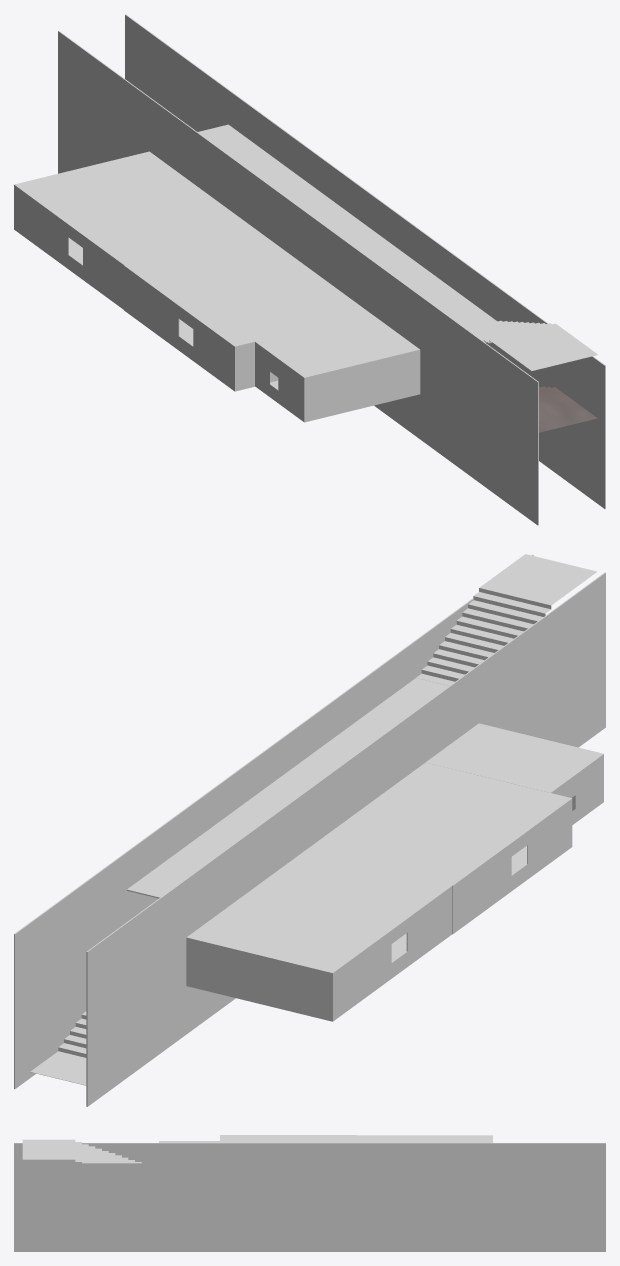
Rendered from 3D escape Map 1 test 1.fbx.
3 renders of one model, top to bottom at view 1: azimuth 30°, elevation 25°; view 2: azimuth 150°, elevation 25°; view 3: azimuth 270°, elevation 25°, orthographic. The views are drawn at different scales.
Parts seen in each view (by area): view 1: Side wall L, Side wall R, Cube, Cube.001, Room 1 walls.003, ceiling.003, Stairs top.003, Stairs up.003; view 2: Side wall L, Cube.001, Side wall R, Cube, ceiling.003, Stairs top.003, Room 1 walls.003, Stairs Down.003; view 3: Side wall R, Side wall L, Stairs top.003, Cube, Cube.001.
Boxes of the visible parts, x1=… form: Side wall L: x1=58, y1=31, x2=538, y2=525; Side wall R: x1=125, y1=14, x2=605, y2=508; Cube: x1=124, y1=232, x2=369, y2=391; Cube.001: x1=14, y1=151, x2=259, y2=309; Room 1 walls.003: x1=255, y1=313, x2=420, y2=422; ceiling.003: x1=198, y1=124, x2=495, y2=327; Stairs top.003: x1=465, y1=320, x2=597, y2=370; Stairs up.003: x1=539, y1=386, x2=597, y2=432; Side wall L: x1=86, y1=572, x2=605, y2=1106; Cube.001: x1=186, y1=850, x2=452, y2=1021; Side wall R: x1=14, y1=554, x2=533, y2=1088; Cube: x1=306, y1=762, x2=572, y2=934; ceiling.003: x1=127, y1=678, x2=448, y2=898; Stairs top.003: x1=416, y1=554, x2=596, y2=685; Room 1 walls.003: x1=425, y1=723, x2=603, y2=824; Stairs Down.003: x1=30, y1=1011, x2=86, y2=1085; Side wall R: x1=14, y1=1163, x2=605, y2=1251; Side wall L: x1=14, y1=1143, x2=605, y2=1163; Stairs top.003: x1=22, y1=1139, x2=141, y2=1163; Cube: x1=220, y1=1135, x2=356, y2=1142; Cube.001: x1=356, y1=1135, x2=492, y2=1142.
Bounding box in the file's own units: 2500 × 1746 × 10181.
